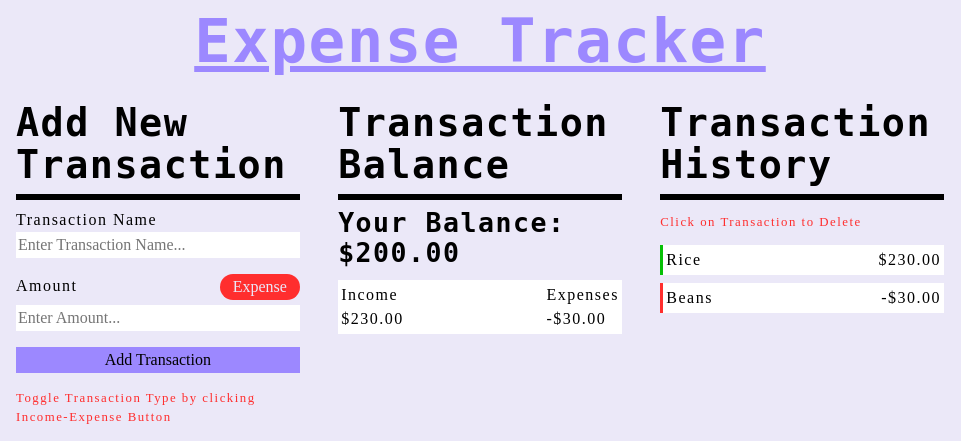
Scenario: App › it removes transaction from history
The image size is (961, 441).
Click the list item "Rice $230.00" at (802, 260), box [660,245,944,275]
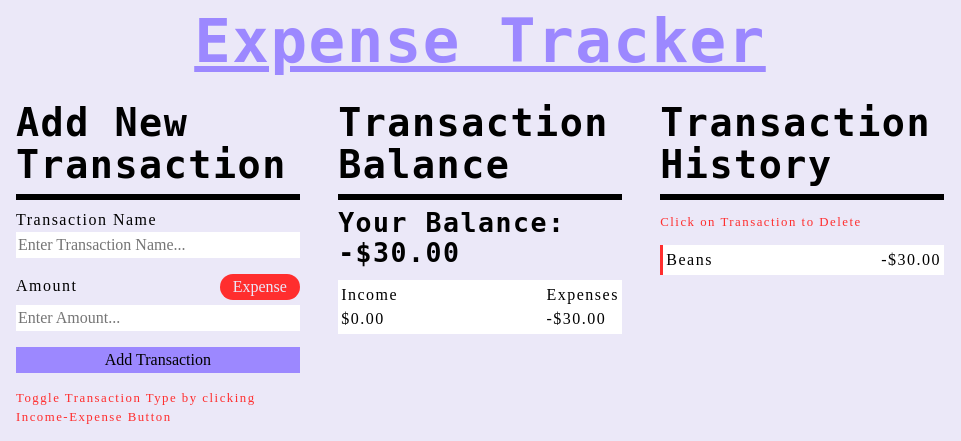
Expected: the number of list items is 1, [660,245,944,275]
Expected: the heading "Your Balance: -$30.00" is shown, [338,207,565,268]
